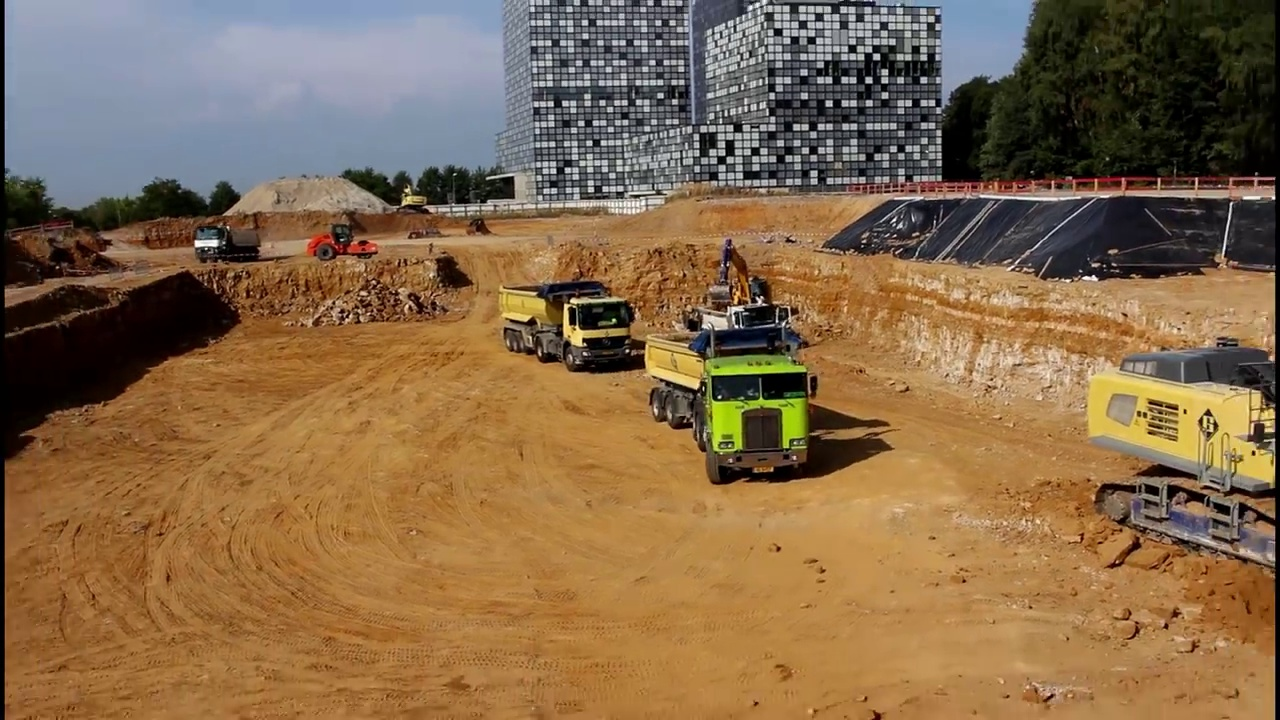compactor: (307, 223, 381, 261)
excavator: (1079, 331, 1280, 571), (703, 236, 786, 355), (396, 183, 431, 217)
truck: (644, 316, 824, 485), (498, 278, 636, 374), (692, 299, 795, 352), (192, 224, 261, 264)
